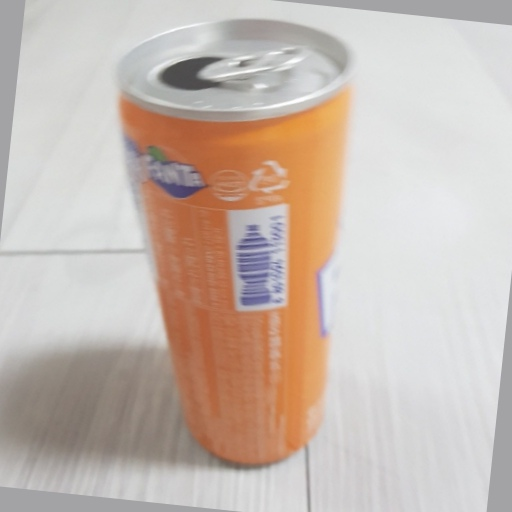Metal_0: (111, 15, 355, 470)
